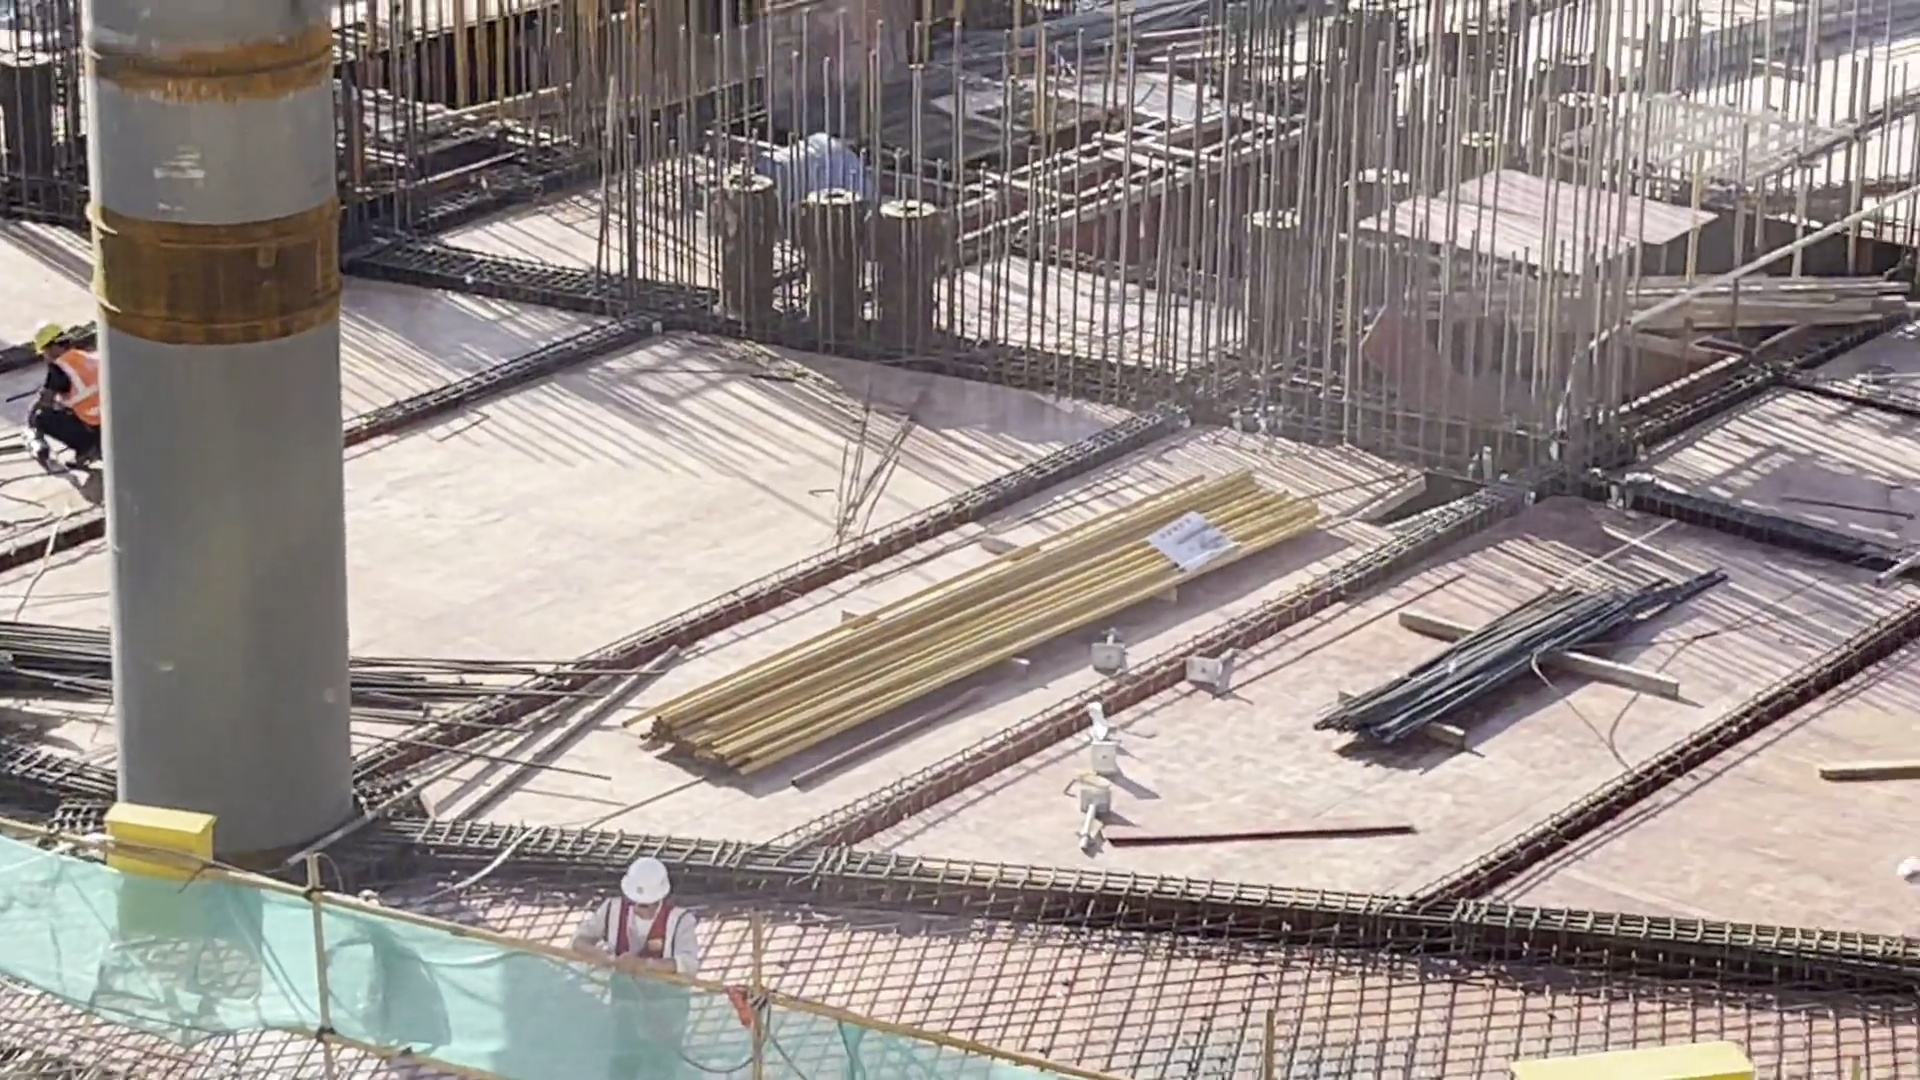helmet: (593, 897, 682, 1034), (44, 355, 109, 431)
person: (582, 857, 698, 1080), (21, 322, 107, 469)
vest: (611, 850, 676, 916), (19, 324, 71, 350)
